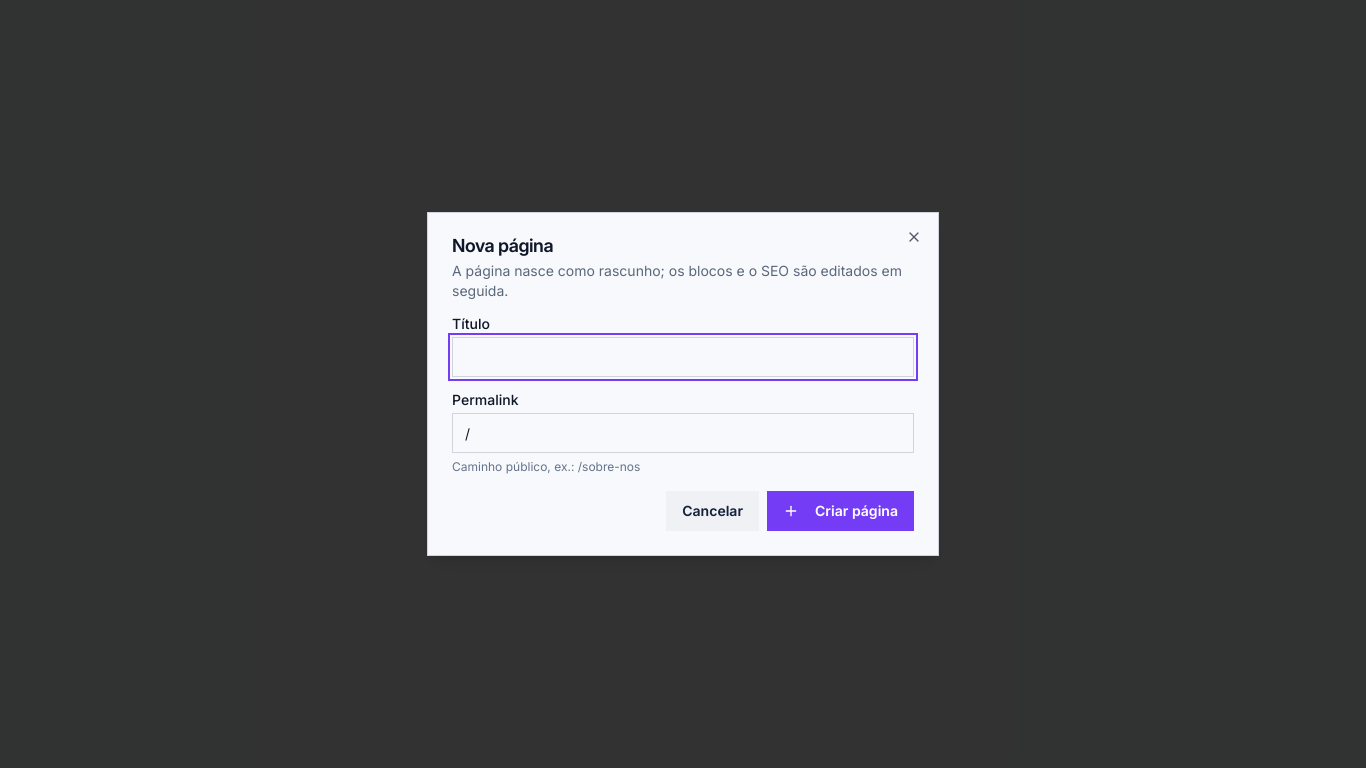
NewPageDialog › blocks reserved paths inline and surfaces a duplicate permalink from the API
Type "Blog" into the field labelled "Título" at (683, 357), box 452,337 -> 914,377
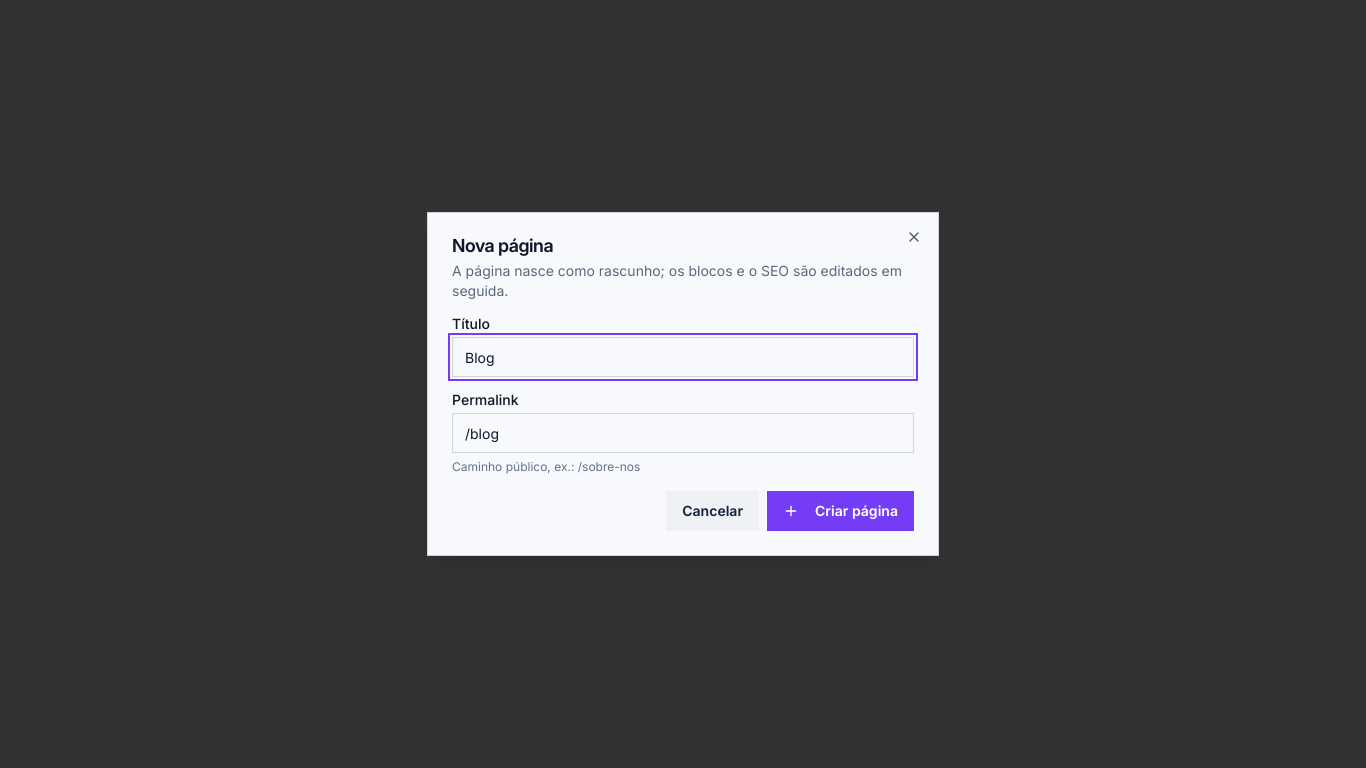
Click the 3rd button named "criar página" at (840, 511), box 767,491 -> 914,531
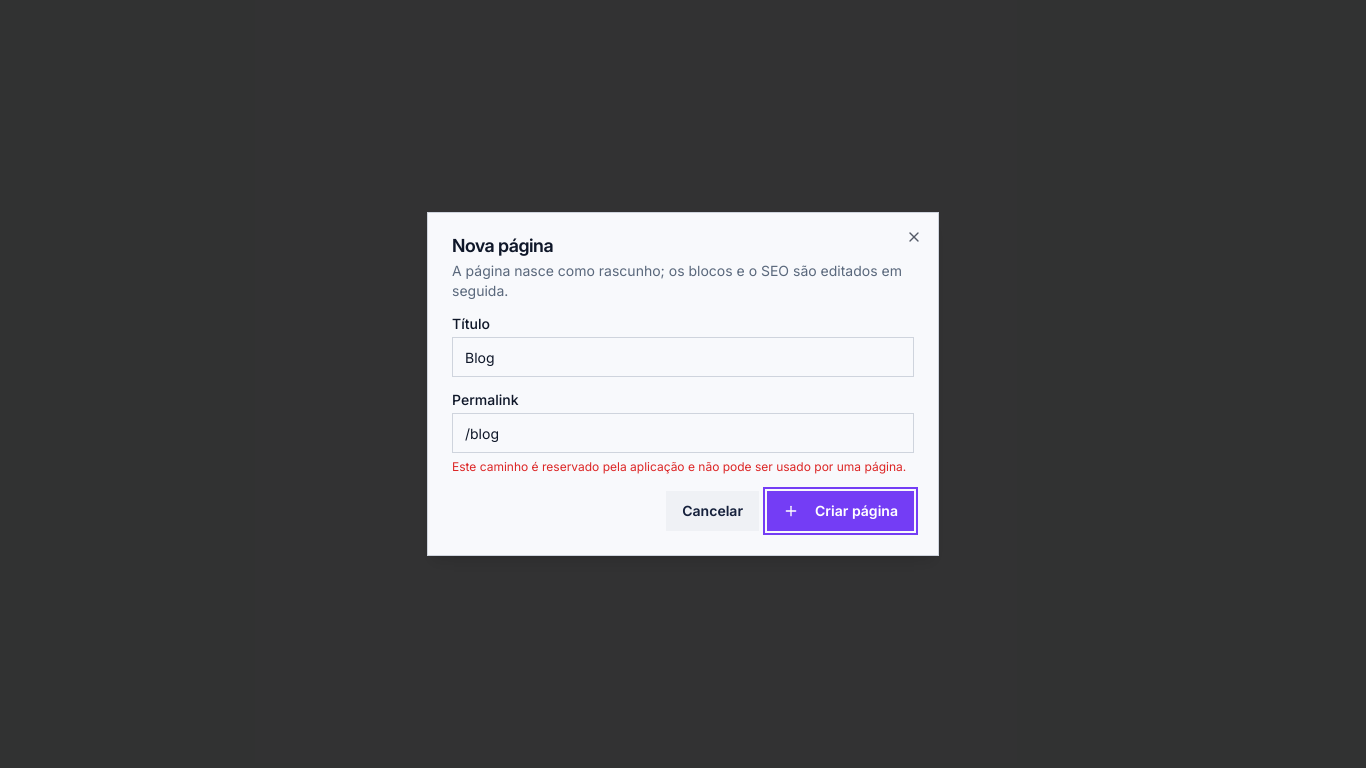
Expected: the text "Este caminho é reservado pela aplicação e não pode ser usado por uma página." is shown, 452,459 -> 914,475
Replace the text in the field labelled "Permalink" with "/novidades" at (683, 433), box 452,413 -> 914,453
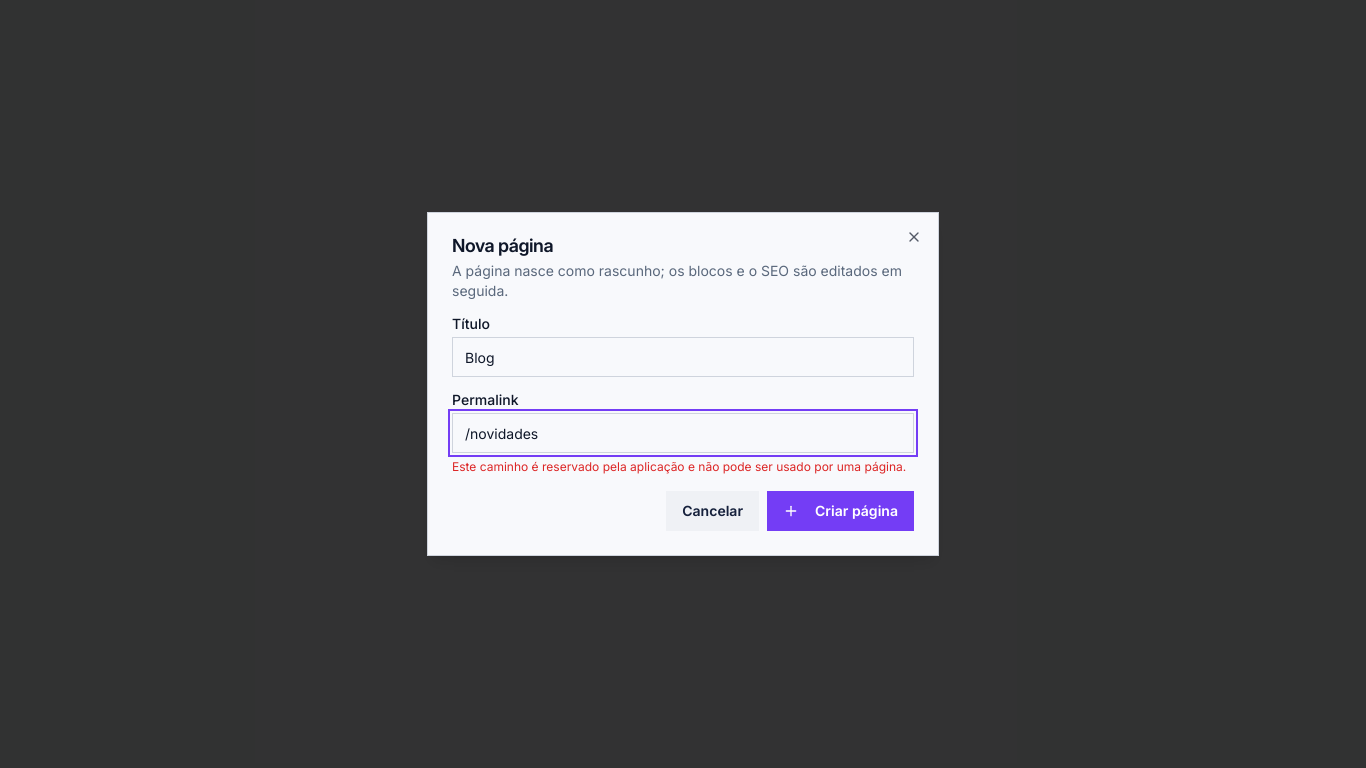
Click the 3rd button named "criar página" at (840, 511), box 767,491 -> 914,531
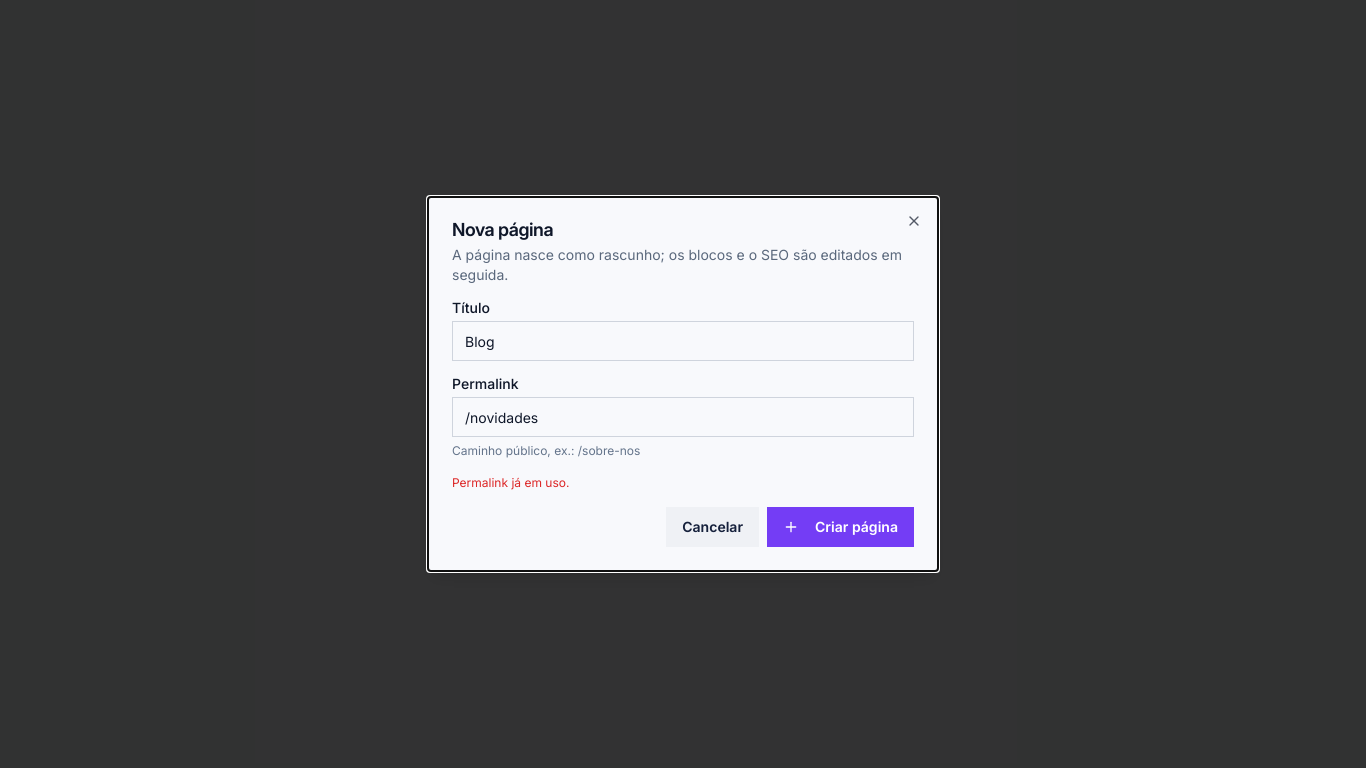
Expected: the text "Permalink já em uso." is shown, 452,475 -> 569,490
